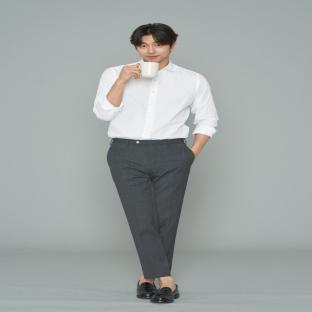Animal: (93, 23, 218, 303)
